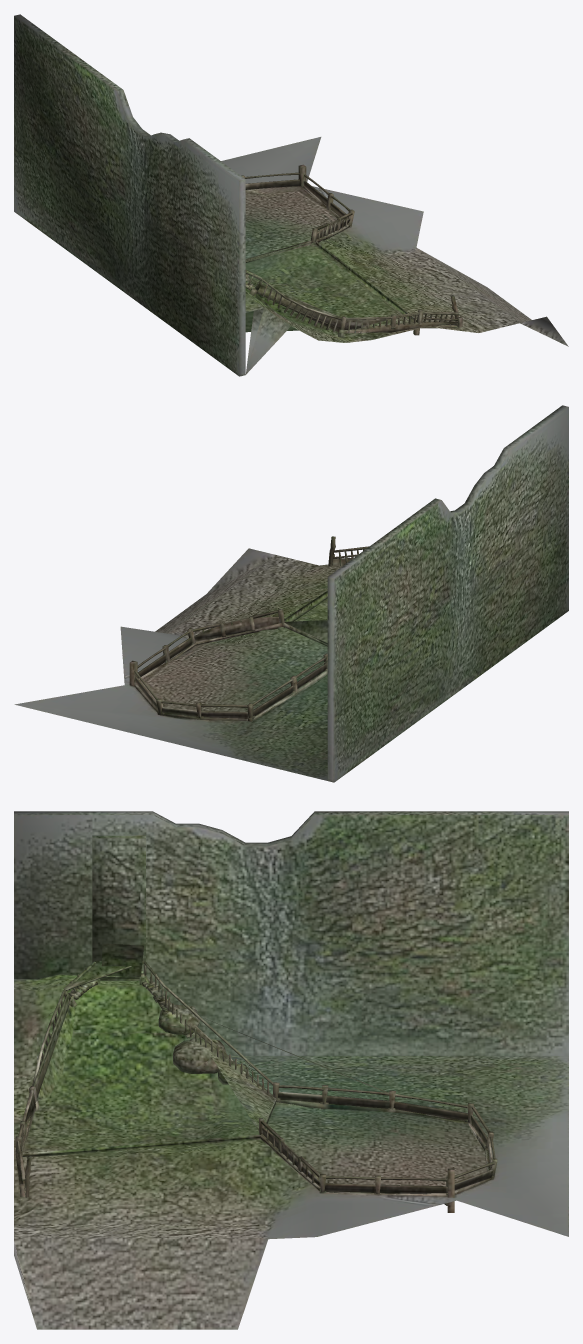
File: waterfalllandscape.lite.glb
3 renders of one model, top to bottom at view 1: azimuth 30°, elevation 25°; view 2: azimuth 150°, elevation 25°; view 3: azimuth 270°, elevation 25°, orthographic. The views are drawn at different scales.
Visible parts, largest first — view 1: model; view 2: model; view 3: model.
Part boxes in pixels (left/top/right/bottom): model: left=14, top=14, right=568, bottom=376; model: left=14, top=405, right=568, bottom=782; model: left=14, top=811, right=568, bottom=1329.
Bounding box in the file's own units: 0.8677 × 0.6255 × 0.9995.
Materials: 1 (1 with a texture image).
